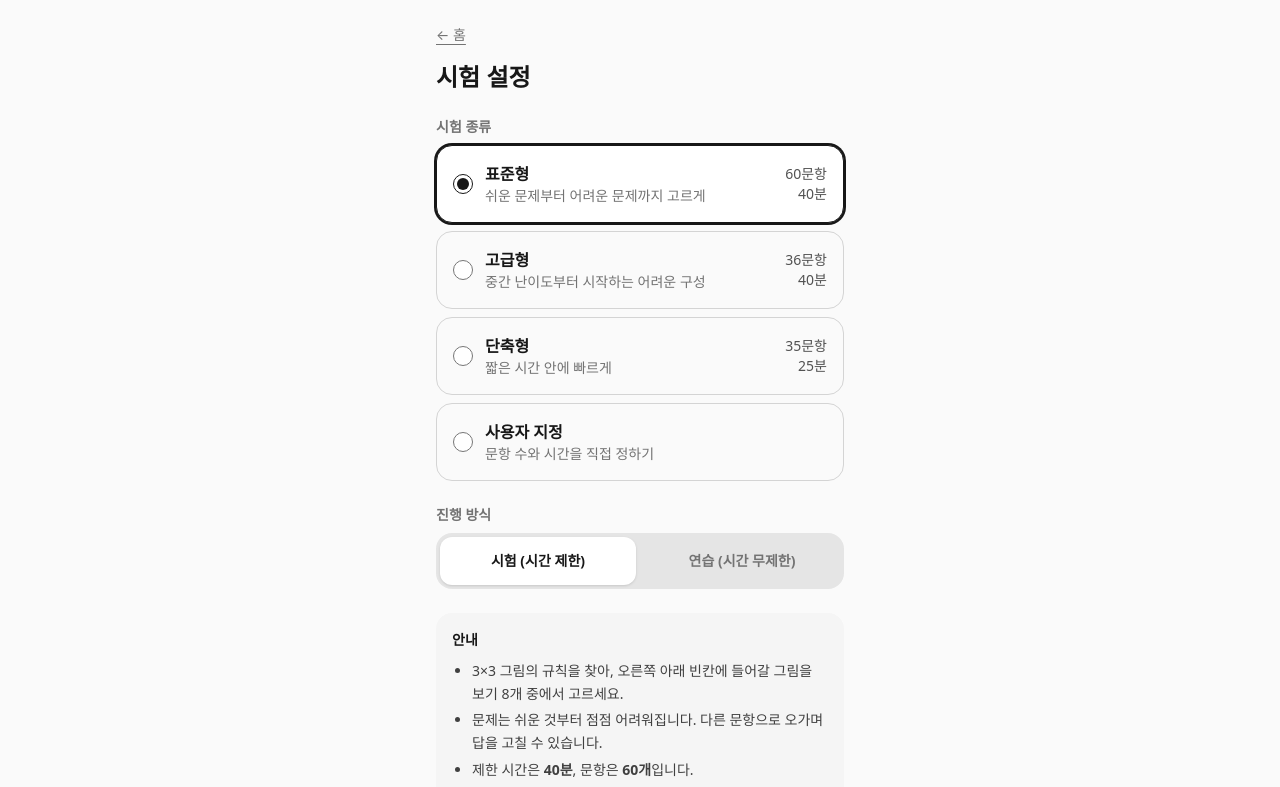
Scenario: 중복 방지 › 시험 설정 화면에서 시작한 시험지는 이전 시험의 문항을 다시 넣지 않는다
The width and height of the screenshot is (1280, 787).
Click the radio button labelled "단축형 짧은 시간 안에 빠르게 35문항25분" at (463, 356), box [453,346,473,366]
(page scrolled)
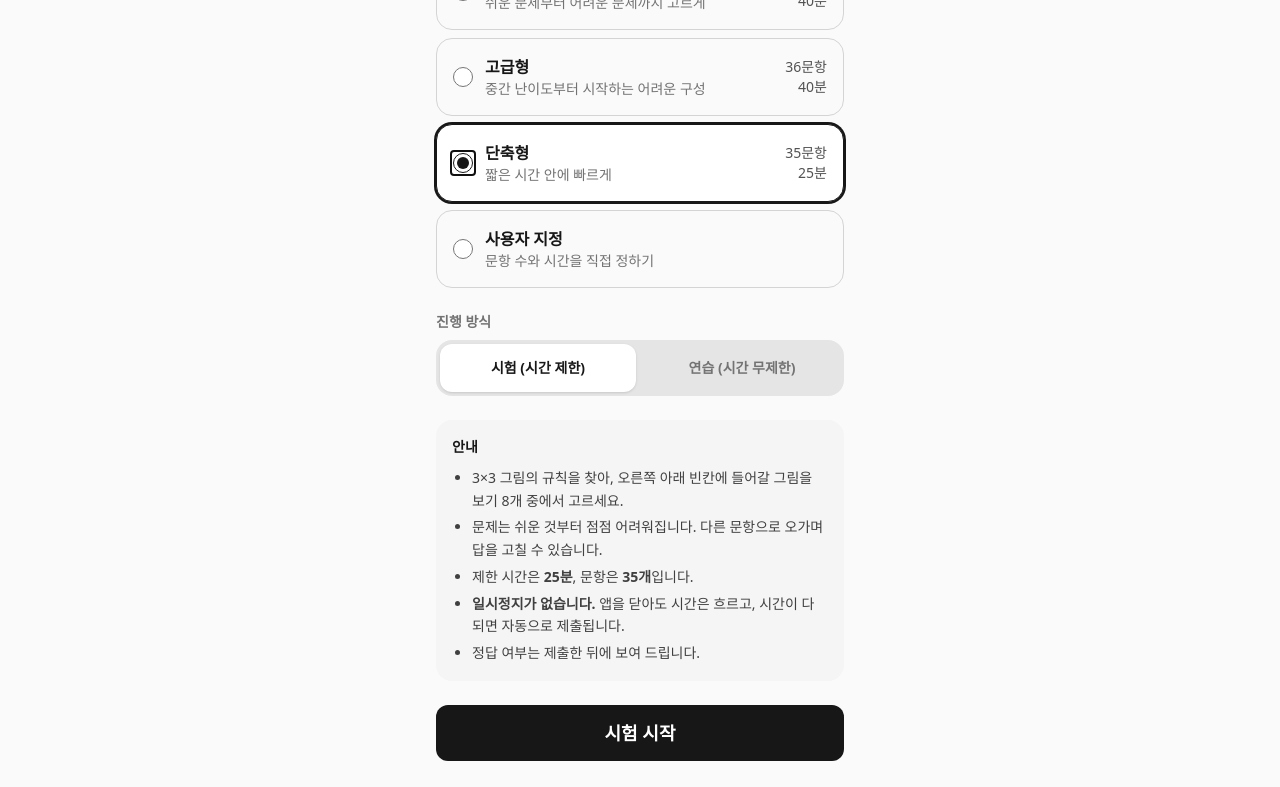
Click the button "시험 시작" at (640, 733), box [436,705,844,761]
(page scrolled)
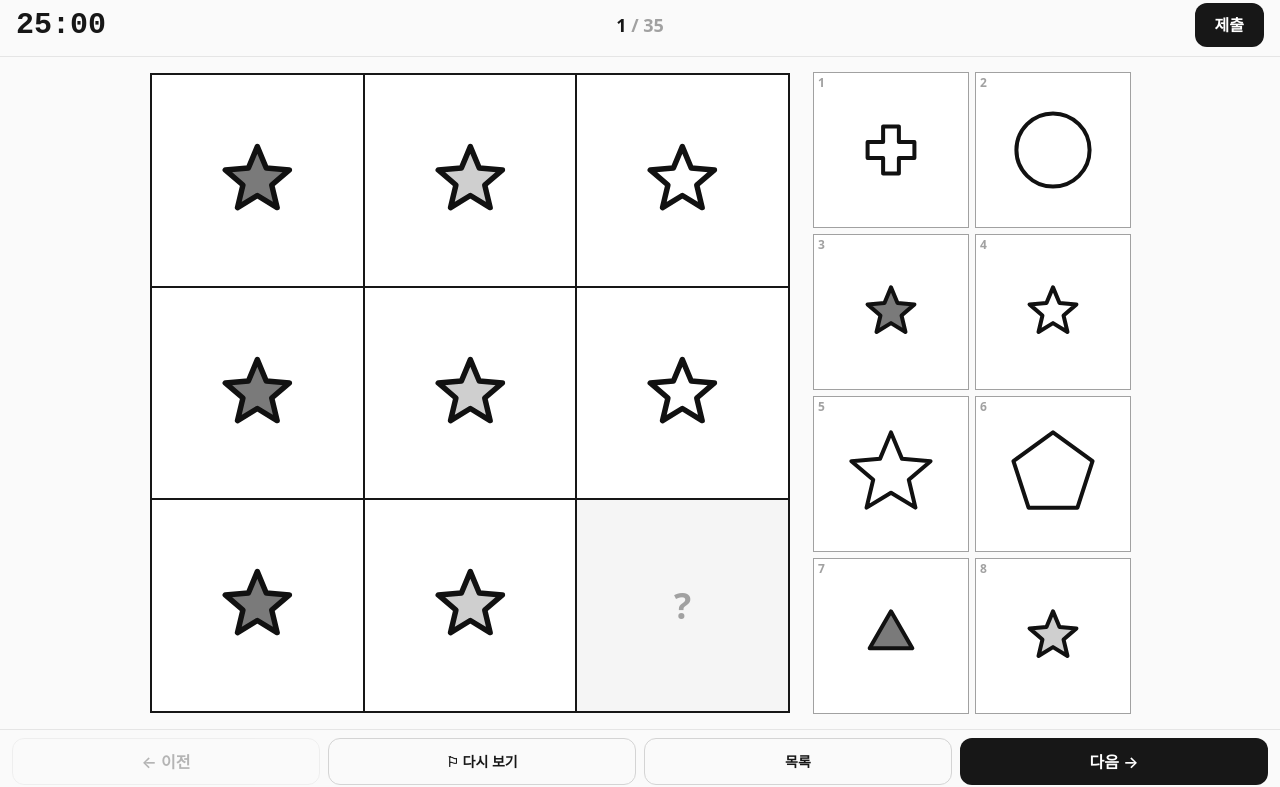
expect the text "25:00" is shown: met, box [16,8,106,42]
